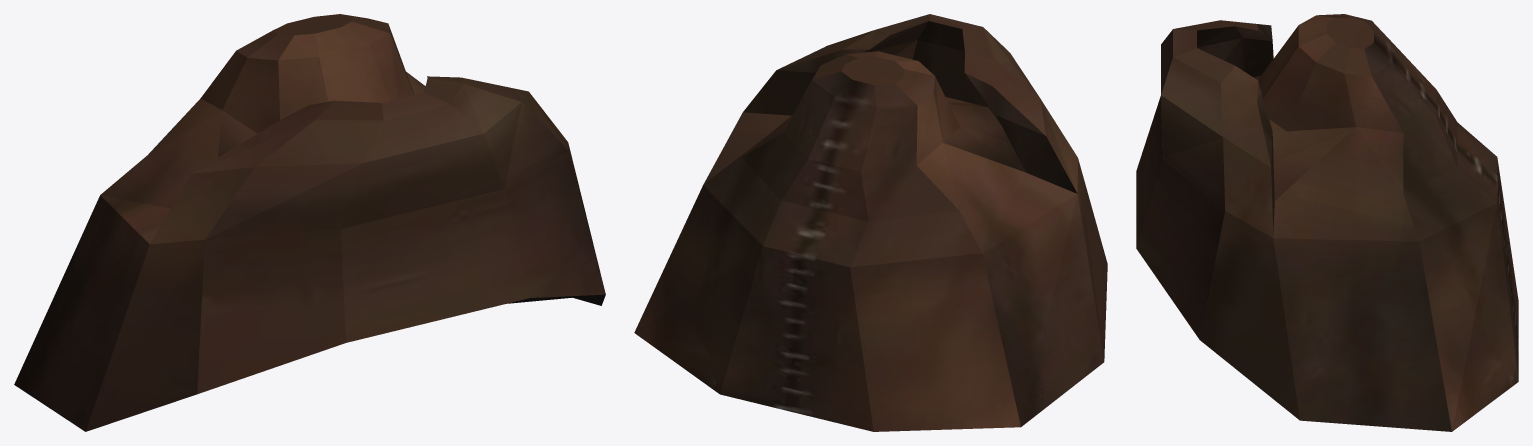
File: CZAPKA1_FIX.glb
The picture shows the model from 3 angles, left to right: view 1: azimuth 30°, elevation 25°; view 2: azimuth 150°, elevation 25°; view 3: azimuth 270°, elevation 25°; orthographic projection. The views are drawn at different scales.
Visible parts, largest first — view 1: CZAPKA1_FIX; view 2: CZAPKA1_FIX; view 3: CZAPKA1_FIX.
Part boxes in pixels (bbox=[...]): CZAPKA1_FIX: bbox=[14, 14, 605, 431]; CZAPKA1_FIX: bbox=[634, 14, 1107, 431]; CZAPKA1_FIX: bbox=[1136, 14, 1518, 431].
Size of the model in its own units: 0.3589 by 0.2402 by 0.266.
1 material, 1 textured.
